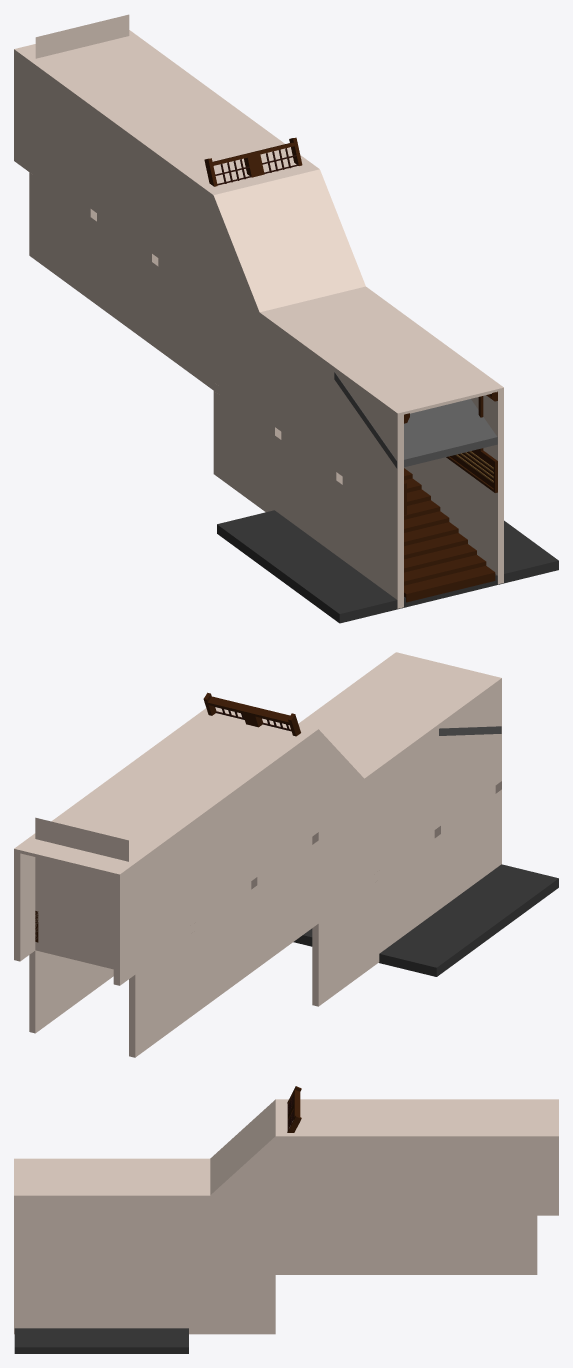
File: Floor_Entry.fbx
3 views of the same model, one above another, from view 1: azimuth 30°, elevation 25°; view 2: azimuth 150°, elevation 25°; view 3: azimuth 270°, elevation 25° (orthographic). The views are drawn at different scales.
Parts seen in each view (by area): view 1: Walls.114, Top.028, Walls.120, Walls.115, Walls.119, Walls.116, Walls.118, Floor.037, Top.020, Top.031, Top.030, Top.027 (+5 smaller); view 2: Walls.120, Walls.116, Walls.119, Walls.118, Walls.115, Walls.114, Floor.037, Top.031, Top.030, Top.020, Top.029, Top.027 (+3 smaller); view 3: Walls.120, Walls.119, Walls.118, Walls.116, Walls.114, Walls.115, Top.028, Top.031, Floor.037, Top.030, Top.027, Top.020 (+2 smaller).
Part boxes in pixels (box(x1,y1,x2,y2)): Walls.114: box(336, 376, 503, 608); Top.028: box(213, 169, 380, 329); Walls.120: box(14, 14, 129, 300); Walls.115: box(275, 330, 436, 554); Walls.119: box(90, 112, 158, 344); Walls.116: box(213, 285, 281, 512); Walls.118: box(152, 156, 213, 390); Floor.037: box(217, 510, 558, 623); Top.020: box(336, 342, 503, 419); Top.031: box(14, 30, 196, 111); Top.030: box(90, 79, 257, 155); Top.027: box(275, 297, 442, 373); Walls.120: box(14, 817, 196, 1057); Walls.116: box(312, 774, 379, 1006); Walls.119: box(96, 780, 257, 1012); Walls.118: box(251, 735, 318, 967); Walls.115: box(379, 730, 440, 952); Walls.114: box(441, 684, 501, 908); Floor.037: box(293, 864, 558, 976); Top.031: box(14, 793, 196, 880); Top.030: box(90, 748, 257, 824); Top.020: box(335, 652, 501, 728); Top.029: box(152, 707, 318, 779); Top.027: box(298, 697, 440, 773); Walls.120: box(450, 1140, 558, 1274); Walls.119: box(362, 1140, 449, 1274); Walls.118: box(275, 1140, 362, 1274); Walls.116: box(188, 1200, 275, 1334); Walls.114: box(14, 1200, 101, 1334); Walls.115: box(101, 1200, 188, 1328); Top.028: box(188, 1099, 275, 1199); Top.031: box(450, 1099, 558, 1140); Floor.037: box(14, 1328, 188, 1353); Top.030: box(362, 1099, 449, 1140); Top.027: box(101, 1158, 188, 1199); Top.020: box(14, 1158, 101, 1199).
Size of the model in its own units: 8.25 by 10.89 by 25.
